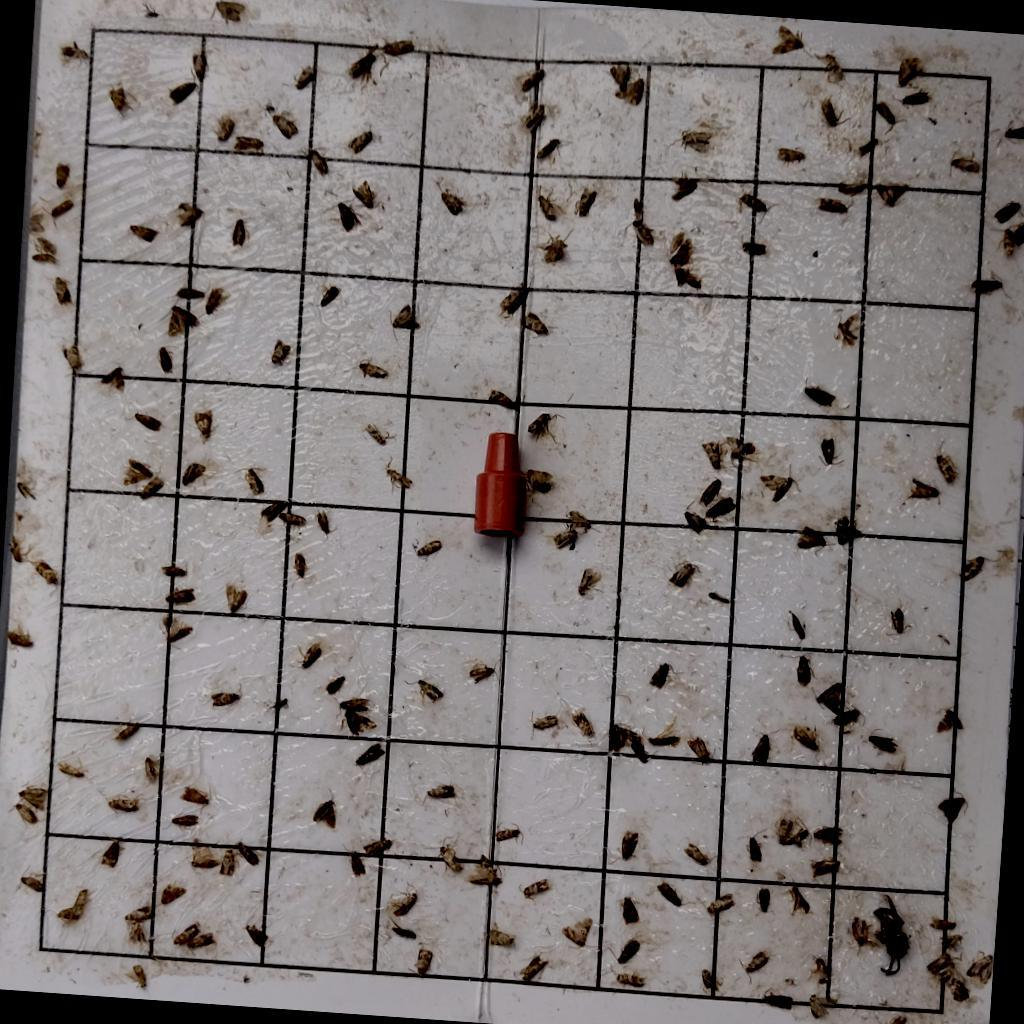grape_moth: (754, 459, 805, 504), (494, 276, 538, 322), (423, 833, 467, 875), (735, 189, 784, 226), (463, 851, 507, 892), (965, 266, 1013, 303), (535, 225, 575, 267), (158, 302, 203, 339), (847, 913, 881, 960), (792, 522, 839, 556), (923, 947, 962, 987), (386, 300, 423, 342), (609, 825, 646, 865), (343, 44, 379, 85), (693, 888, 738, 920), (722, 435, 760, 472), (818, 92, 856, 129), (290, 635, 325, 675), (534, 183, 568, 224), (157, 615, 194, 652), (932, 698, 969, 735), (872, 176, 910, 212), (560, 914, 599, 949), (29, 557, 61, 599), (831, 308, 863, 350), (38, 196, 76, 231), (790, 722, 824, 761), (401, 677, 446, 706), (190, 835, 225, 872), (736, 947, 771, 984), (812, 50, 847, 87), (664, 230, 699, 267), (383, 455, 415, 495), (98, 830, 129, 871), (770, 23, 806, 58), (432, 180, 466, 217), (176, 781, 213, 815), (945, 970, 979, 1007), (231, 463, 270, 495), (531, 135, 570, 167), (388, 879, 419, 919), (806, 852, 850, 880), (105, 83, 139, 119), (120, 455, 157, 488), (13, 863, 50, 896), (904, 476, 943, 507), (42, 271, 76, 306), (613, 72, 647, 107), (622, 215, 658, 248), (957, 548, 993, 581), (570, 182, 602, 219), (172, 199, 209, 231), (511, 952, 550, 982), (377, 33, 417, 62), (684, 734, 718, 768), (567, 709, 601, 743), (349, 175, 382, 210), (989, 223, 1021, 259), (607, 961, 648, 989), (485, 385, 527, 412), (931, 450, 963, 485), (56, 37, 91, 69), (809, 820, 849, 848), (667, 559, 703, 590), (678, 127, 715, 157), (963, 948, 993, 985), (735, 233, 774, 261), (345, 122, 377, 156), (948, 146, 982, 178), (521, 463, 556, 494), (466, 655, 502, 685), (895, 54, 925, 90), (518, 98, 547, 135), (53, 900, 90, 929), (360, 832, 398, 860), (528, 709, 560, 742), (780, 884, 812, 917), (103, 790, 142, 817), (206, 1, 248, 26), (575, 566, 605, 601), (5, 797, 41, 826), (190, 407, 216, 447), (185, 47, 213, 84), (516, 874, 549, 905), (172, 916, 205, 947), (58, 342, 92, 372), (698, 438, 728, 472), (209, 680, 244, 709), (519, 310, 553, 339), (203, 284, 232, 318), (363, 420, 399, 447), (680, 840, 717, 866), (221, 583, 250, 616), (806, 993, 839, 1022), (549, 526, 582, 555), (3, 622, 36, 651), (420, 781, 458, 806), (289, 550, 314, 588), (409, 537, 444, 564), (272, 509, 311, 533), (268, 113, 299, 143), (925, 910, 962, 935), (17, 784, 50, 811), (606, 58, 633, 91), (836, 175, 869, 202), (135, 473, 165, 502), (814, 191, 850, 215), (357, 355, 391, 380), (805, 953, 830, 987), (489, 921, 518, 950), (519, 66, 547, 96), (187, 926, 218, 953), (122, 902, 156, 926), (231, 134, 268, 156), (123, 961, 151, 990), (305, 147, 333, 176), (565, 508, 596, 534), (291, 62, 317, 93), (268, 337, 293, 369), (126, 222, 162, 244), (211, 113, 238, 142), (217, 847, 242, 878), (56, 753, 87, 778), (313, 507, 338, 538), (126, 915, 151, 946), (114, 717, 142, 744), (494, 821, 524, 845), (160, 882, 189, 906), (774, 145, 807, 166), (142, 754, 165, 784), (31, 234, 60, 257), (69, 883, 92, 912), (772, 815, 794, 845), (53, 159, 73, 190), (415, 946, 433, 979), (28, 250, 60, 266)
